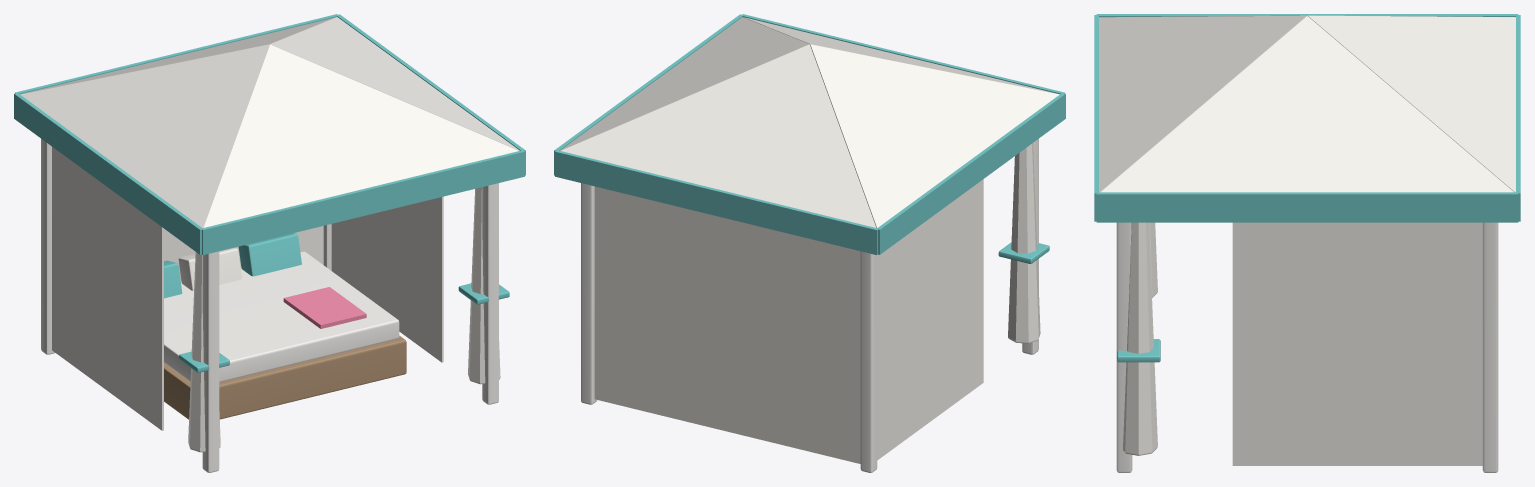
File: Cabana.fbx
3 renders of one model, left to right at view 1: azimuth 30°, elevation 25°; view 2: azimuth 150°, elevation 25°; view 3: azimuth 270°, elevation 25°, orthographic. The views are drawn at different scales.
Visible parts, largest first — view 1: Cabana; view 2: Cabana; view 3: Cabana.
Part boxes in pixels (x1,y1,x2,y2): Cabana: (14,14,525,472); Cabana: (554,14,1065,472); Cabana: (1094,14,1520,472).
Size of the model in its own units: 3.54 by 3.46 by 3.54.
